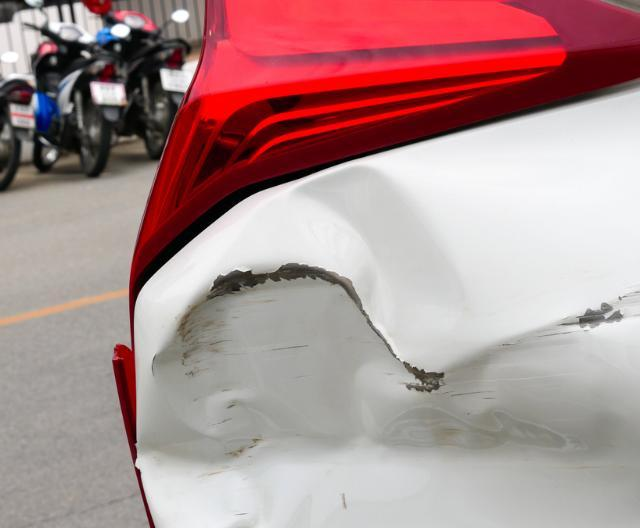Fender: (125, 199, 640, 499)
